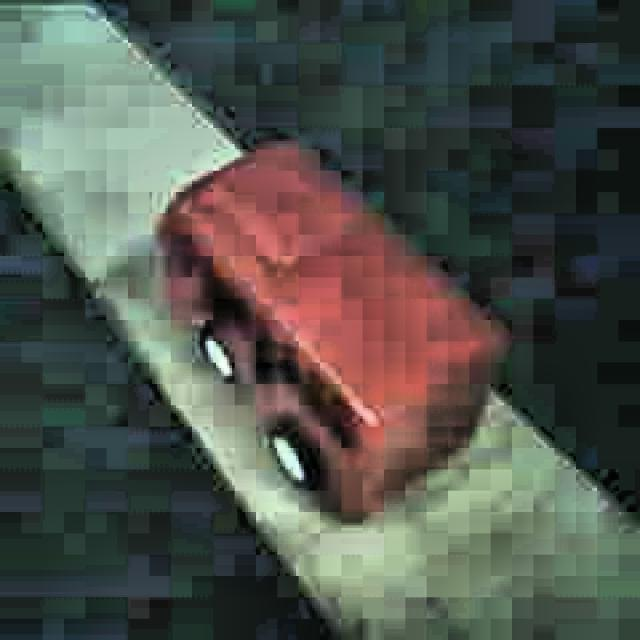bus: (154, 136, 503, 529)
